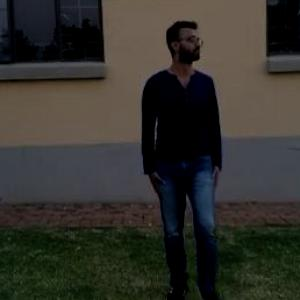follow: (136, 8, 233, 299)
